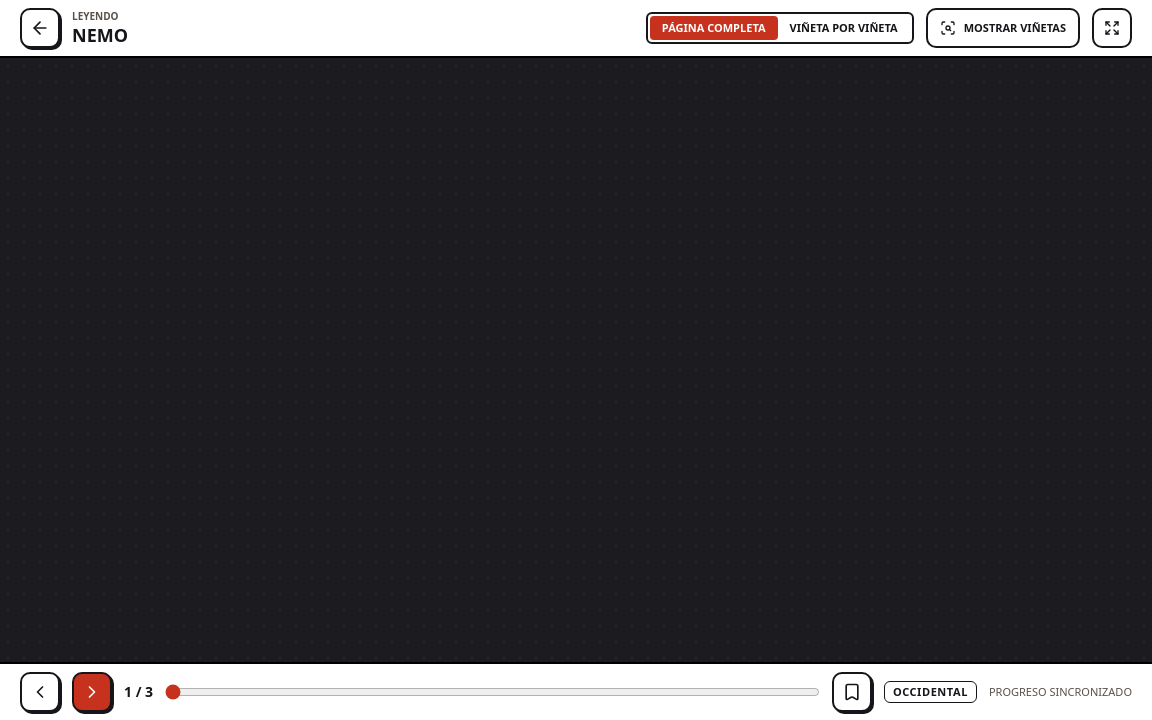
Test: Reader › avanza con el teclado y con el botón
Press Arrowright
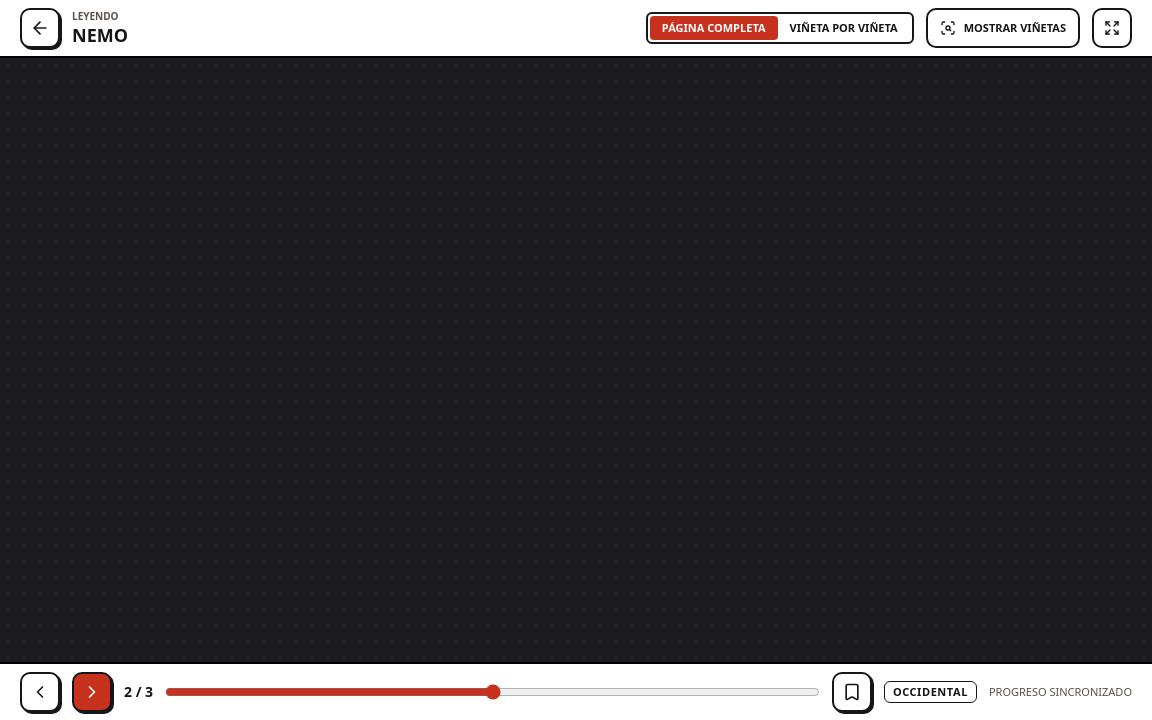
Expected: the text "2 / 3" is shown, [124,682,153,702]
Click the button named "Página siguiente": click(92, 692) [72,672,112,712]
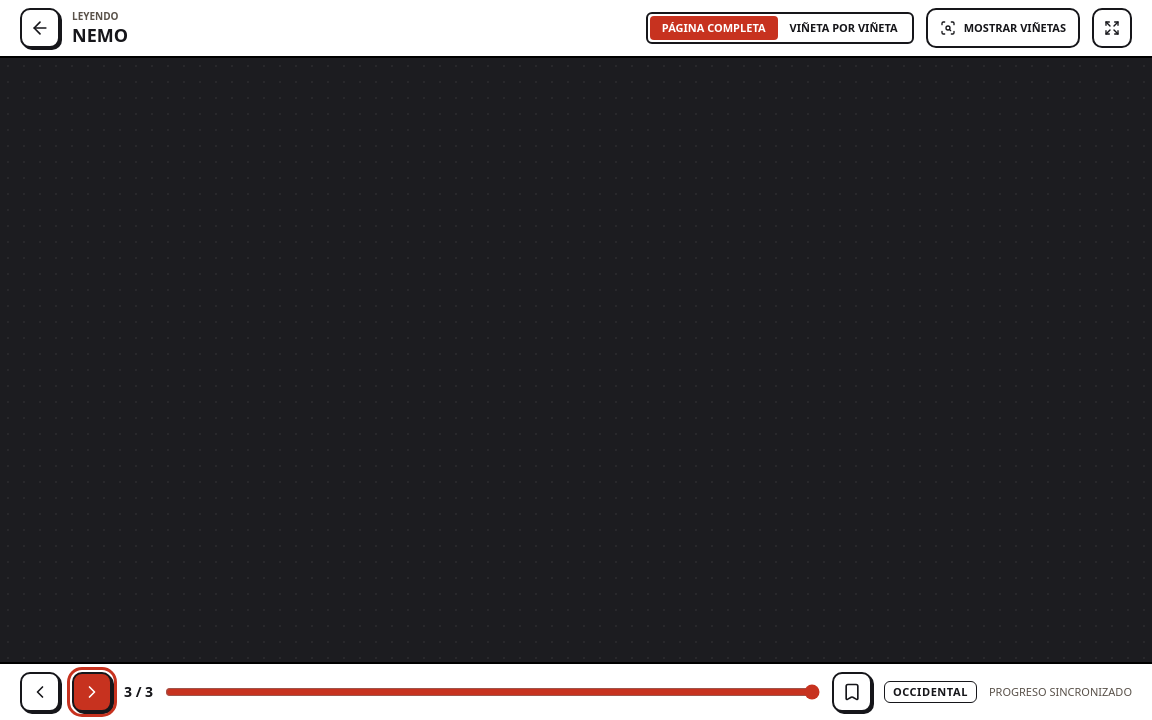
Expected: the text "3 / 3" is shown, [124,682,153,702]
Click the button named "Página anterior": click(40, 692) [20,672,60,712]
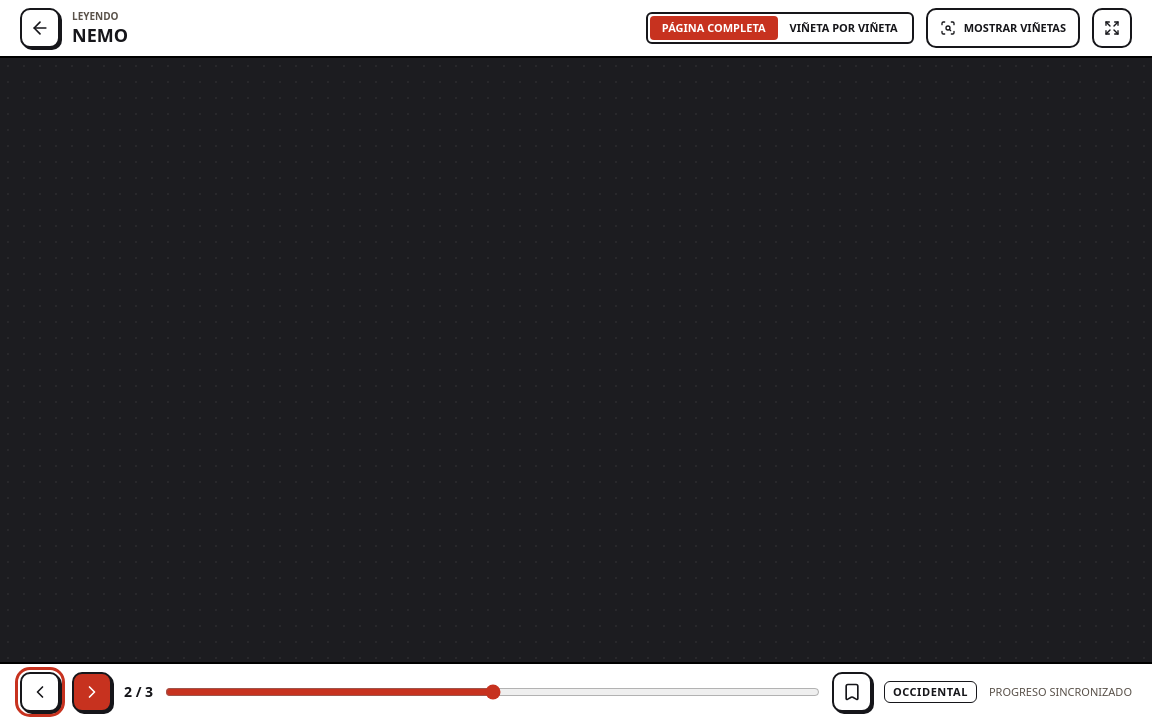
Expected: the text "2 / 3" is shown, [124,682,153,702]
